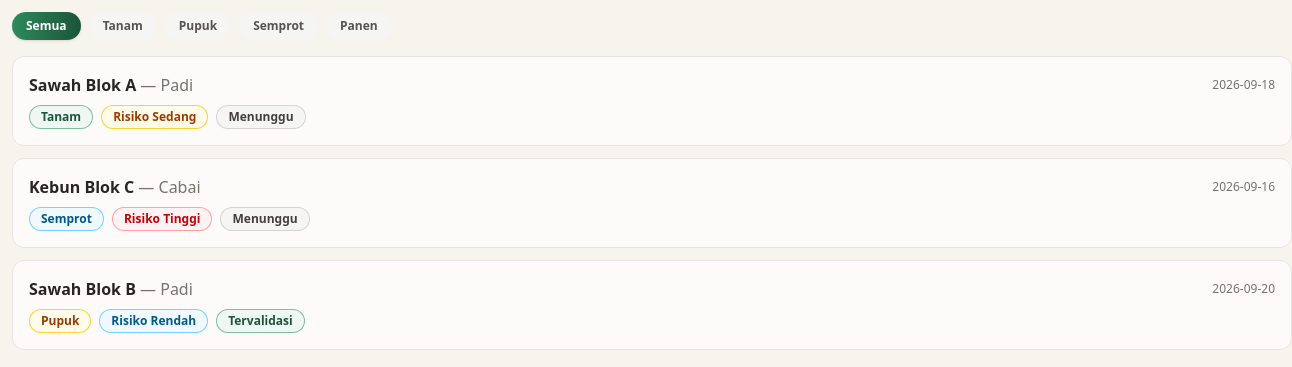
Test case: RecommendationsListClient › menampilkan pesan kosong khusus kategori bila tidak ada hasil
What coordinates should you click on to do the following:
click the button "Panen"
I would click on:
 (359, 26)
Its box is [326,12,392,40].
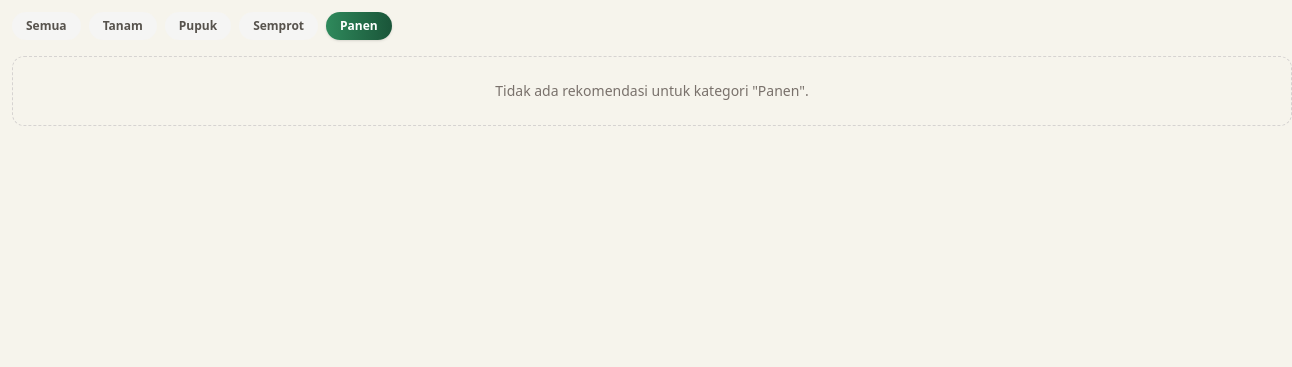
Now the message shows "kategori \"Panen\"", box [495,81,809,100]
